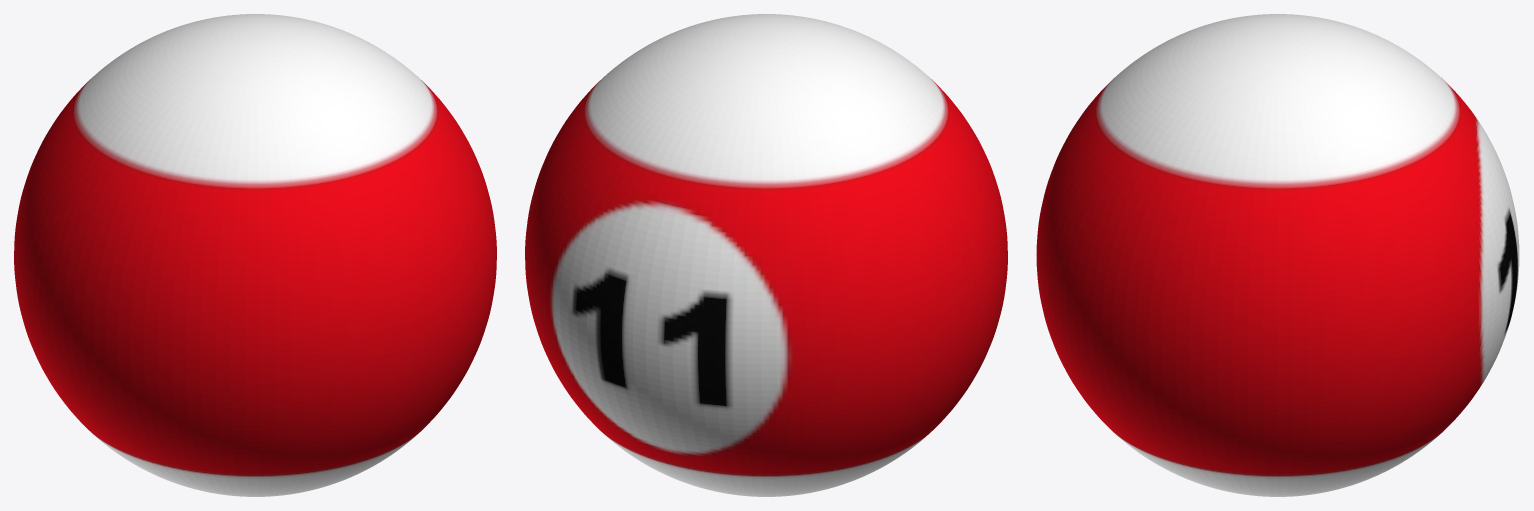
The model's file is ElevenBall.obj.
The picture shows the model from 3 angles, left to right: view 1: azimuth 30°, elevation 25°; view 2: azimuth 150°, elevation 25°; view 3: azimuth 270°, elevation 25°; orthographic projection.
Parts seen in each view (by area): view 1: Sphere; view 2: Sphere; view 3: Sphere.
Boxes of the visible parts, x1,y1,x2,y2 form: Sphere: [14, 14, 496, 496]; Sphere: [525, 14, 1007, 496]; Sphere: [1036, 14, 1519, 496].
Bounding box in the file's own units: 2 × 2 × 2.
